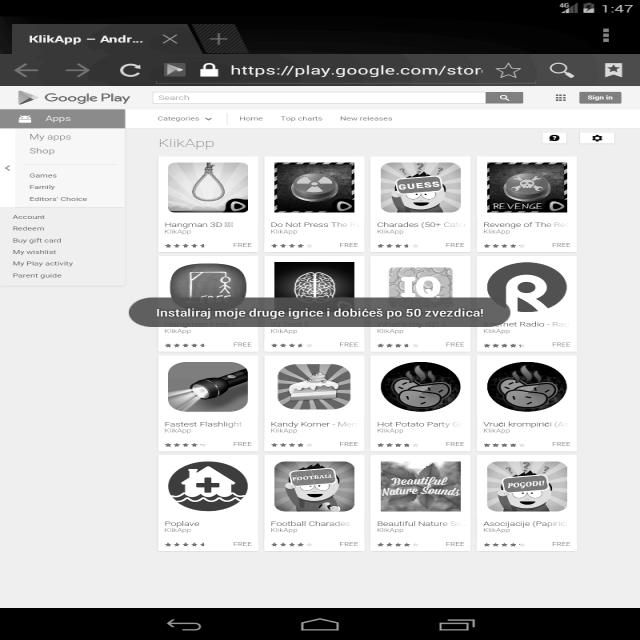Button: (570, 86, 628, 108)
EditText-: (142, 87, 533, 108)
ImageButton: (544, 59, 588, 82), (8, 61, 50, 81), (113, 61, 151, 83), (490, 61, 528, 83), (61, 61, 100, 82), (597, 59, 631, 81), (578, 129, 615, 146), (592, 25, 619, 47)
ImageView: (161, 458, 257, 510), (378, 359, 462, 413), (486, 159, 567, 214), (164, 161, 246, 213), (382, 461, 465, 511), (382, 162, 463, 213), (272, 161, 354, 211), (483, 462, 562, 510), (481, 362, 563, 408), (486, 264, 560, 314), (278, 462, 355, 510), (169, 360, 244, 409), (278, 361, 352, 409), (170, 260, 248, 303), (278, 264, 358, 300), (384, 264, 450, 296)
RatingBar: (371, 338, 424, 350), (266, 537, 318, 549), (268, 438, 318, 450), (373, 239, 417, 251), (163, 240, 211, 250)
TextView: (18, 129, 102, 205), (6, 212, 83, 278), (371, 219, 467, 236), (41, 88, 126, 104), (158, 218, 238, 234), (377, 419, 465, 433)
